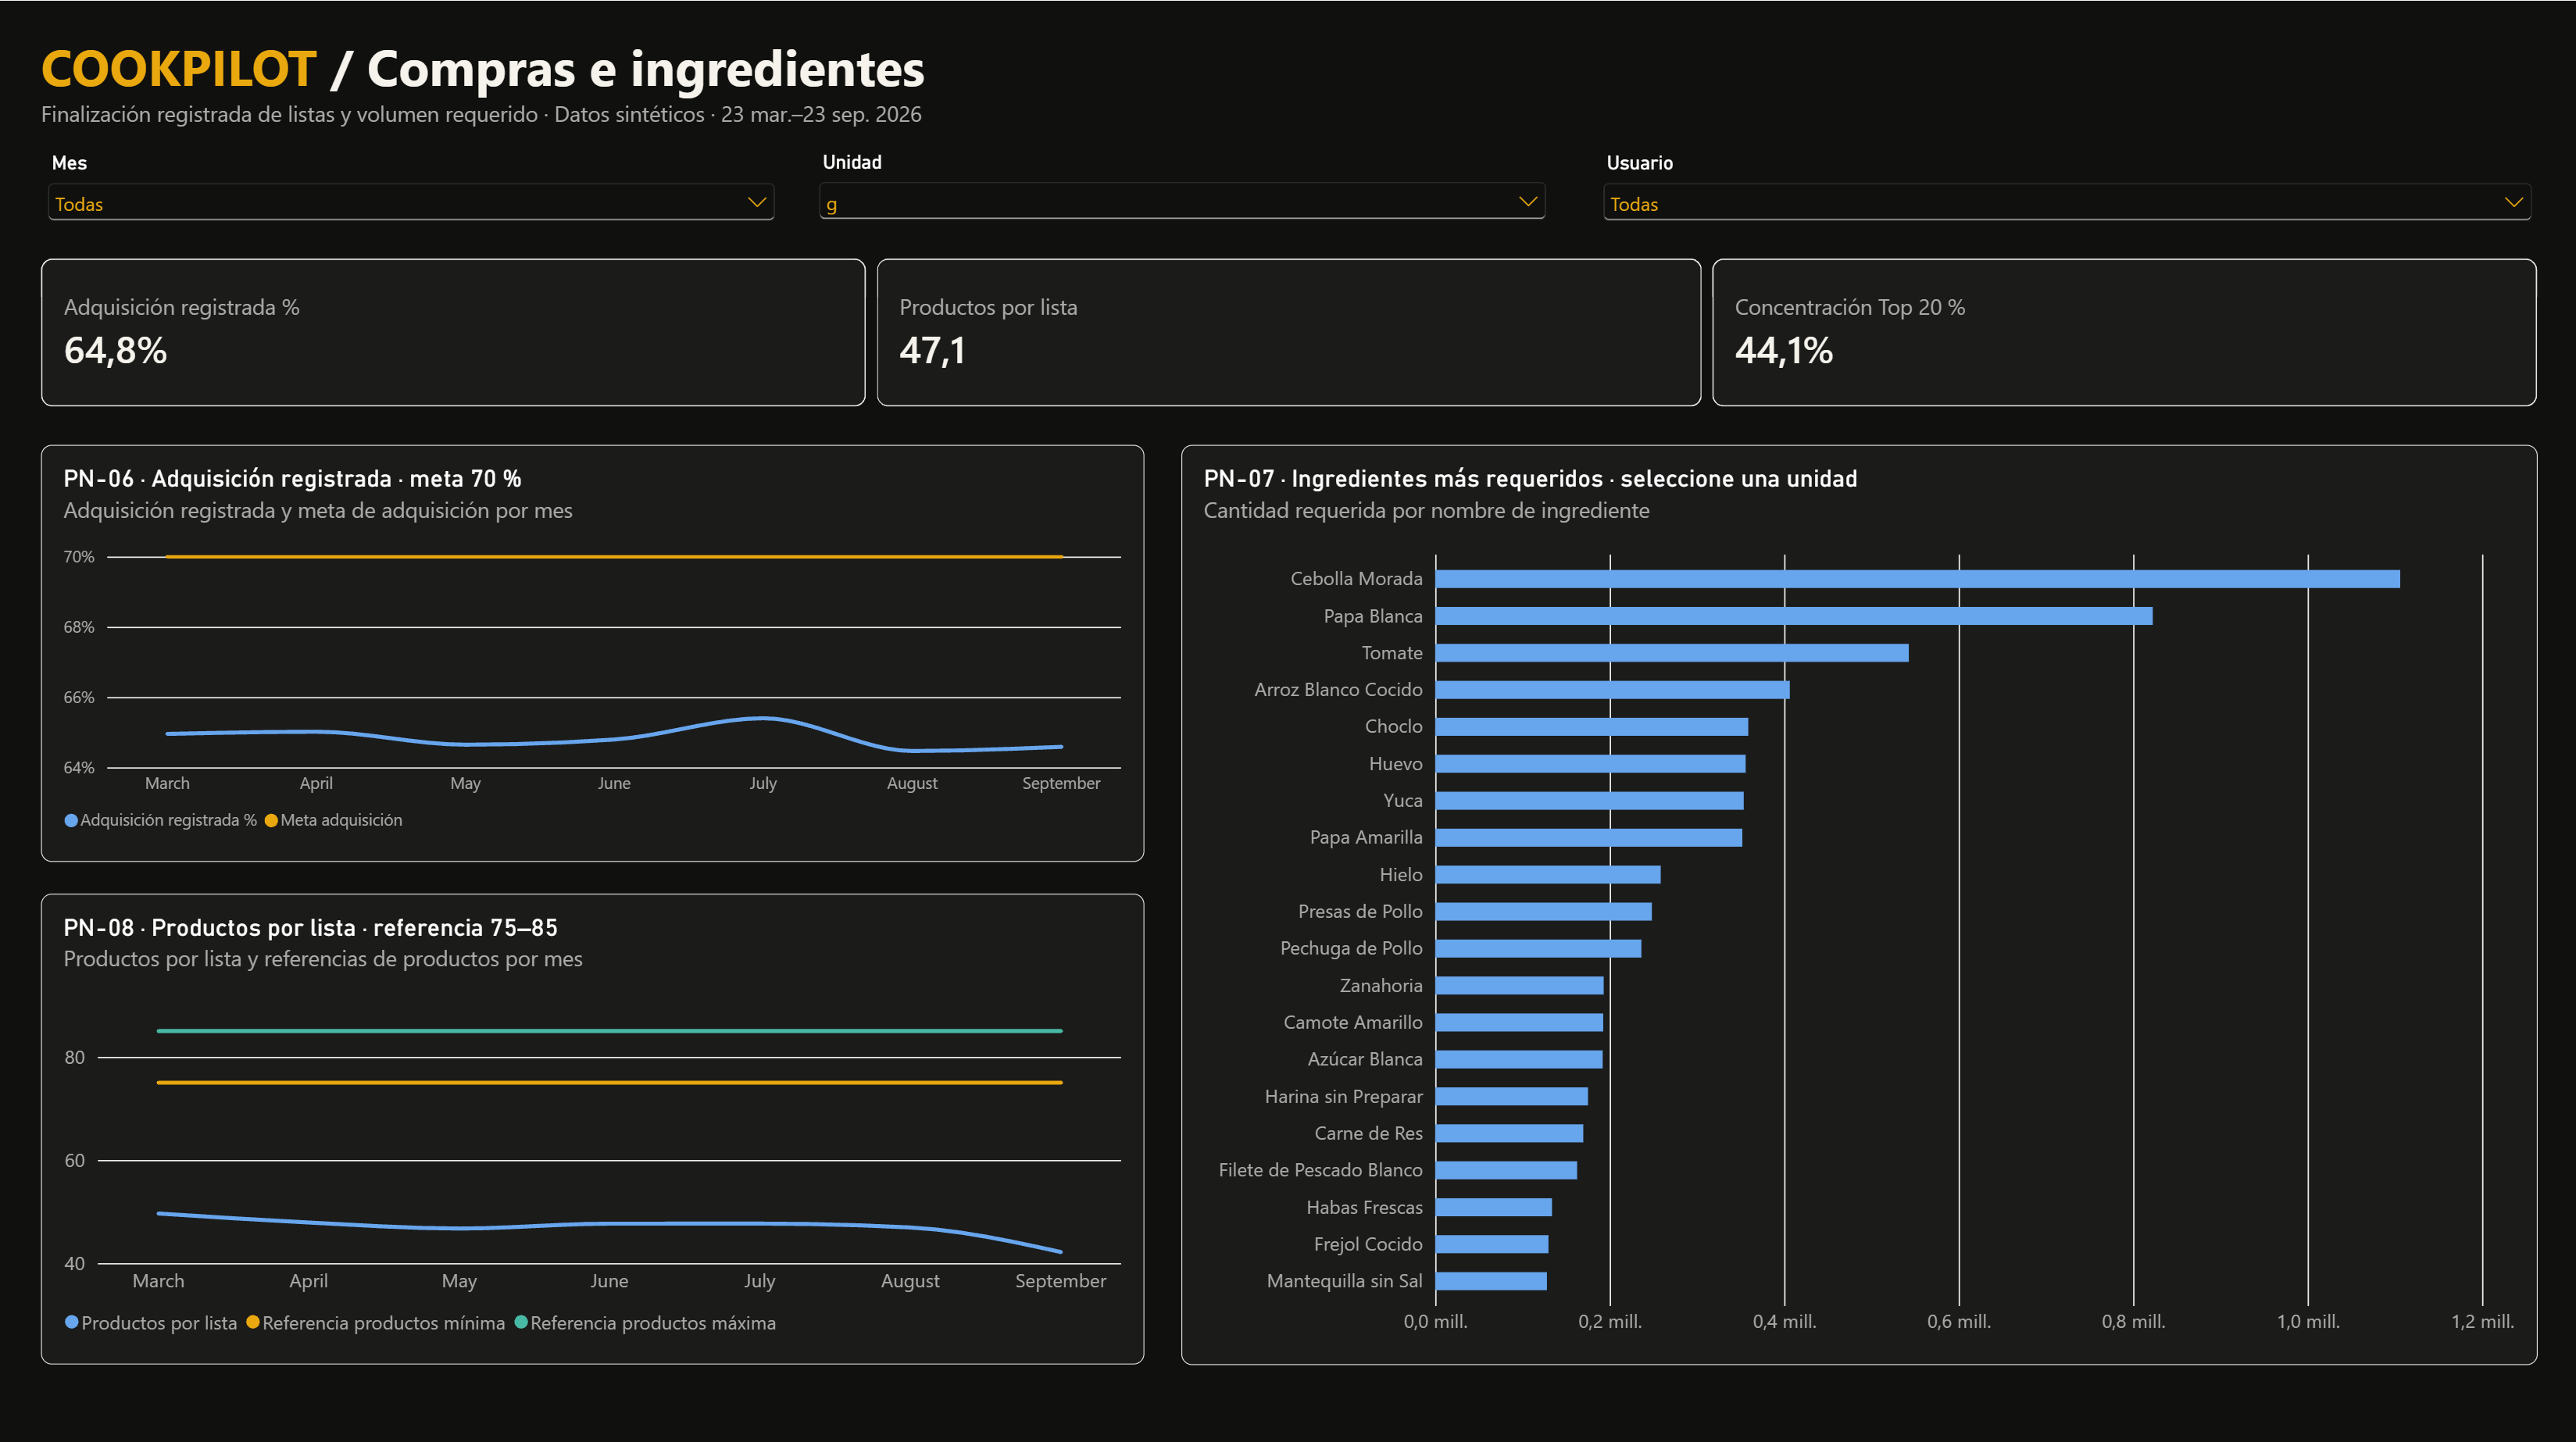

The dashboard page shown, as its layout file describes it:
{"tool":"powerbi","page":{"name":"Compras e ingredientes","canvas":[1920,1080],"ordinal":1},"visuals":[{"type":"textbox","box":[32,23.8,1499.9,101.6],"z":0},{"type":"lineChart","title":"PN-06 · Adquisición registrada · meta 70 %","fields":{"Category":["dim_date.month_name"],"Y":["fact_shopping_item.Adquisición registrada %","fact_planning.Meta adquisición"]},"box":[32,330,820,310],"z":1},{"type":"lineChart","title":"PN-08 · Productos por lista · referencia 75–85","fields":{"Category":["dim_date.month_name"],"Y":["fact_shopping_item.Productos por lista","fact_planning.Referencia productos mínima","fact_planning.Referencia productos máxima"]},"box":[32,664,820,350],"z":2},{"type":"clusteredBarChart","title":"PN-07 · Ingredientes más requeridos · seleccione una unidad","fields":{"Category":["dim_ingredient.ingredient_name"],"Y":["fact_shopping_item.Cantidad requerida"]},"box":[880,330,1008,684],"z":3},{"type":"slicer","fields":{"Values":["fact_shopping_item.required_unit"]},"box":[604.9,111.6,550,65],"z":4},{"type":"slicer","fields":{"Values":["dim_date.month_name"]},"box":[32,112,550,65],"z":5},{"type":"slicer","fields":{"Values":["dim_user.username"]},"box":[1188,112,700,65],"z":6},{"type":"cardVisual","fields":{"Data":["fact_shopping_item.Adquisición registrada %","fact_shopping_item.Productos por lista","fact_shopping_item.Concentración Top 20 %"]},"box":[32,192,1856,110],"z":7}]}

Visuals, with their boxes in screenshot pixels (x1, y1, x2, y2), scaled from the page's 1920x1080 canvas onto the 2576x1442 screenshot:
textbox: box(43, 32, 2056, 167)
"PN-06 · Adquisición registrada · meta 70 %" lineChart: box(43, 441, 1143, 855)
"PN-08 · Productos por lista · referencia 75–85" lineChart: box(43, 887, 1143, 1354)
"PN-07 · Ingredientes más requeridos · seleccione una unidad" clusteredBarChart: box(1181, 441, 2533, 1354)
slicer - fact_shopping_item.required_unit: box(812, 149, 1549, 236)
slicer - dim_date.month_name: box(43, 149, 781, 237)
slicer - dim_user.username: box(1594, 149, 2533, 237)
cardVisual - fact_shopping_item.Adquisición registrada % x fact_shopping_item.Productos por lista: box(43, 256, 2533, 403)
